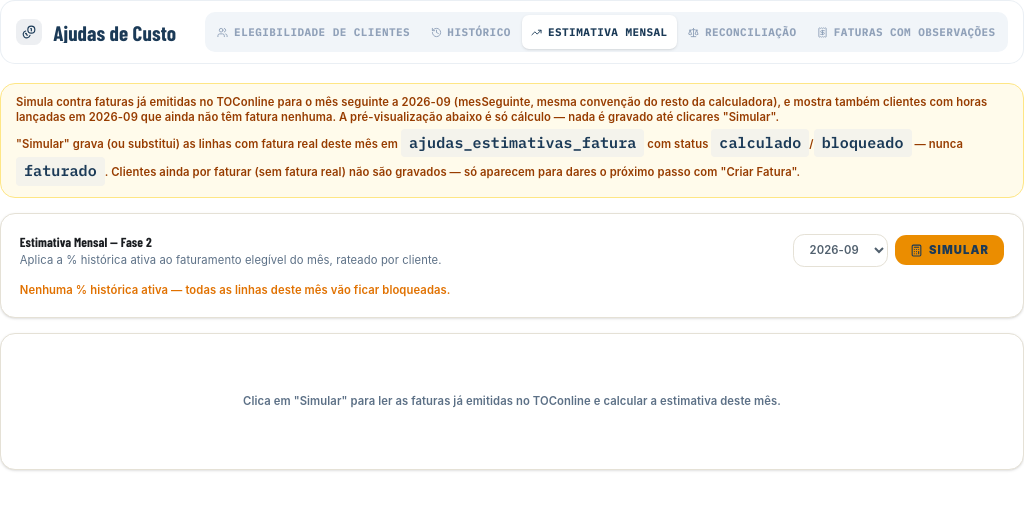
Scenario: EstimativaMensalTab — Fase 2a com faturas reais do TOConline › clientes ainda por faturar (sem fatura real) › mostra o cliente com horas mas sem fatura, marcado como "ainda por faturar", e não grava nada em ajudas_estimativas_fatura para ele
This screenshot has width=1024, height=516.
What coordinates should you click on to do the following:
click the button "Simular"
I would click on:
 (950, 250)
Its box is [895,235,1004,265].
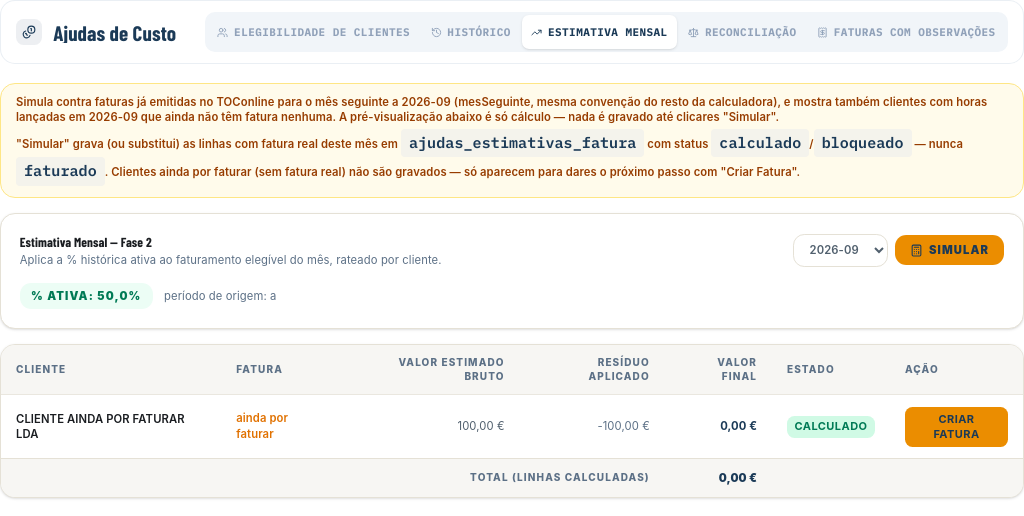
Expected: the text "CLIENTE AINDA POR FATURAR LDA" is shown, [1,395,221,459]
Expected: the text "ainda por faturar" is shown, [236,411,288,441]
